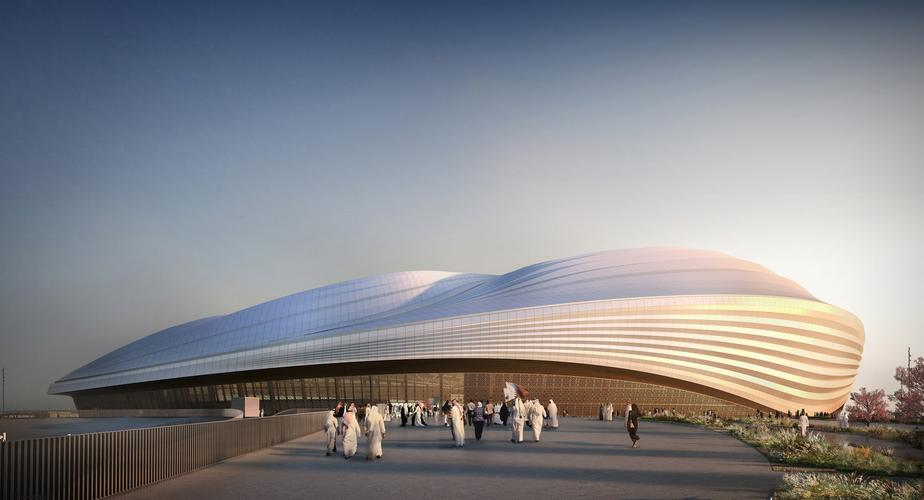buildings: (33, 245, 860, 457)
mountain: (34, 257, 853, 433)
